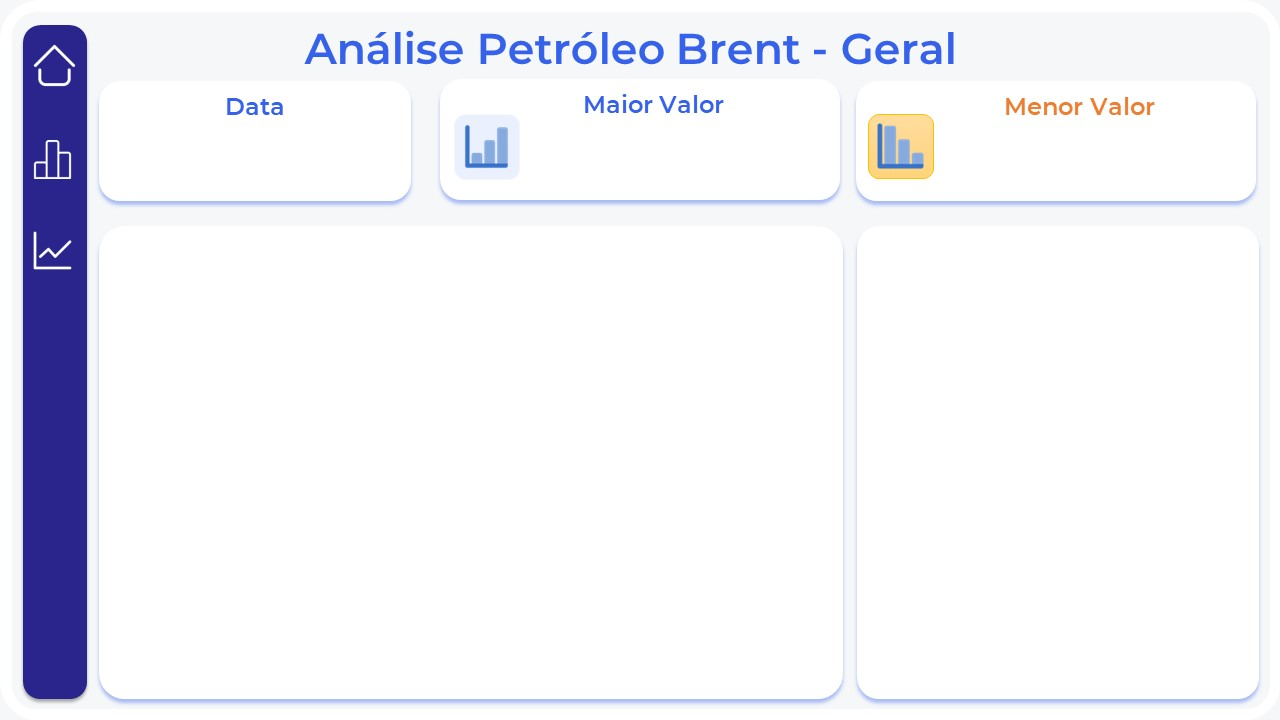

The page's visual inventory and layout, read from the dashboard file:
{"tool":"powerbi","page":{"name":"Geral","canvas":[1280,720],"ordinal":1},"visuals":[{"type":"lineChart","title":"Análise ao Longo do Tempo","fields":{"Category":["petroleo_brent.Data.Variation.Date Hierarchy.Year","petroleo_brent.Data.Variation.Date Hierarchy.Month","petroleo_brent.Data.Variation.Date Hierarchy.Day"],"Y":["Sum(petroleo_brent.Preco)"]},"box":[113,239,711,442],"z":0},{"type":"pivotTable","title":"Análise Detalhada","fields":{"Rows":["petroleo_brent.Data.Variation.Date Hierarchy.Year","petroleo_brent.Data.Variation.Date Hierarchy.Month","petroleo_brent.Data.Variation.Date Hierarchy.Day"],"Values":["Sum(petroleo_brent.Preco)"]},"box":[872,239,375,453],"z":1000},{"type":"slicer","fields":{"Values":["petroleo_brent.Data"]},"box":[153,129,224,48],"z":2000},{"type":"card","fields":{"Values":["petroleo_brent.MaiorValor"]},"box":[521,98,267,98],"z":3000},{"type":"card","fields":{"Values":["petroleo_brent.MenorValor"]},"box":[925,110,306,86],"z":4000},{"type":"actionButton","box":[26,40,60,51],"z":5000},{"type":"actionButton","box":[26,226,60,52],"z":6000}]}

Visuals, with their boxes in screenshot pixels (x1, y1, x2, y2), scaled from the page's 1280x720 canvas onto the 1280x720 screenshot:
"Análise ao Longo do Tempo" lineChart: x1=113, y1=239, x2=824, y2=681
"Análise Detalhada" pivotTable: x1=872, y1=239, x2=1247, y2=692
slicer - petroleo_brent.Data: x1=153, y1=129, x2=377, y2=177
card - petroleo_brent.MaiorValor: x1=521, y1=98, x2=788, y2=196
card - petroleo_brent.MenorValor: x1=925, y1=110, x2=1231, y2=196
actionButton: x1=26, y1=40, x2=86, y2=91
actionButton: x1=26, y1=226, x2=86, y2=278
